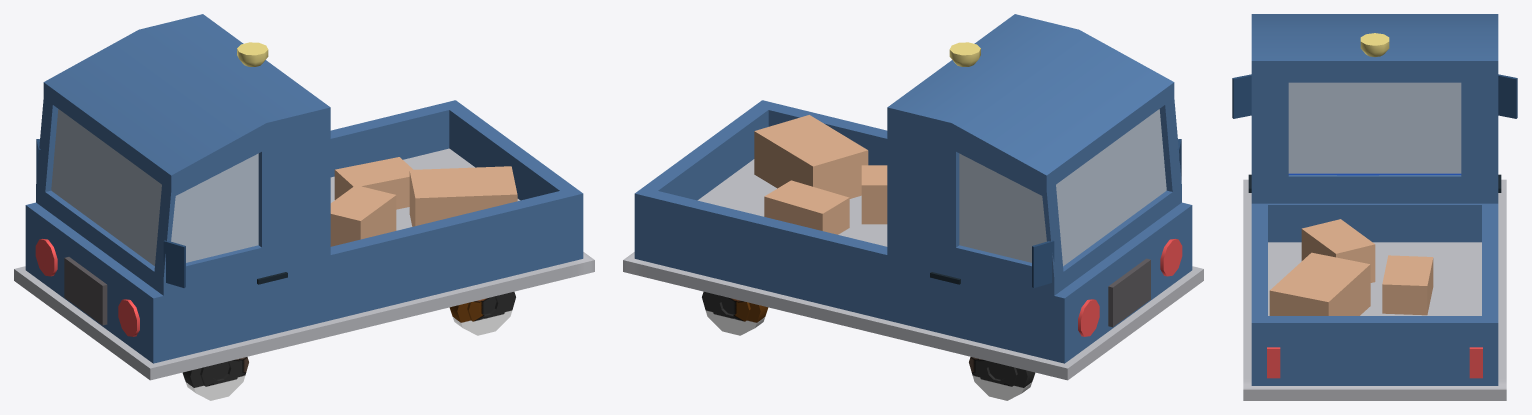
The model's file is truck.fbx.
3 views of the same model, side by side, from view 1: azimuth 30°, elevation 25°; view 2: azimuth 150°, elevation 25°; view 3: azimuth 270°, elevation 25° (orthographic). The views are drawn at different scales.
Visible parts, largest first — view 1: Truck; view 2: Truck; view 3: Truck.
Boxes of the visible parts, left/top/right/bottom form: Truck: left=14, top=14, right=594, bottom=400; Truck: left=623, top=14, right=1203, bottom=400; Truck: left=1232, top=14, right=1517, bottom=400.
Bounding box in the file's own units: 30.18 × 17.36 × 18.38.
